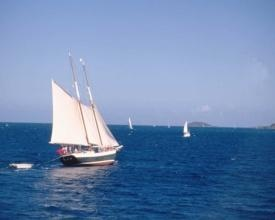fanchuan: (50, 52, 122, 169), (184, 119, 194, 139)
otherboat: (9, 161, 35, 169)
